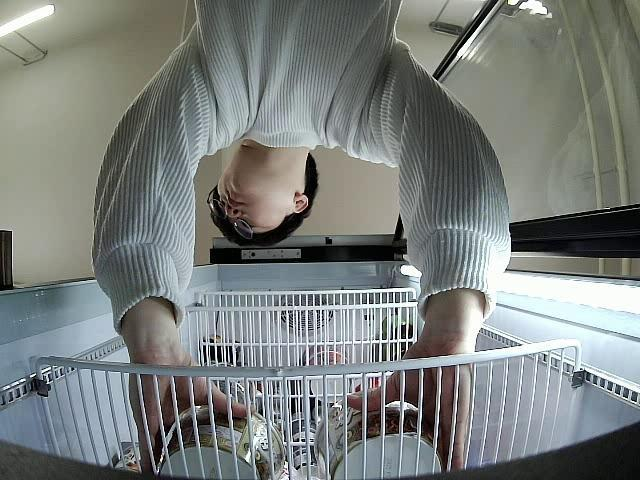03_chapagetti_L: (314, 392, 443, 480), (159, 404, 286, 480)
